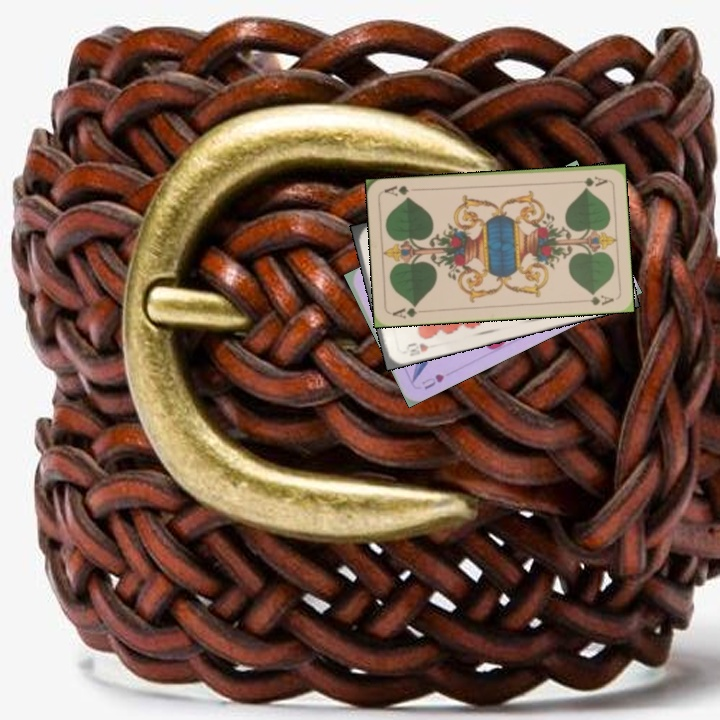GA: (388, 300, 429, 321), (569, 172, 610, 189)
H10: (397, 339, 431, 359)
HU: (417, 370, 447, 392)
